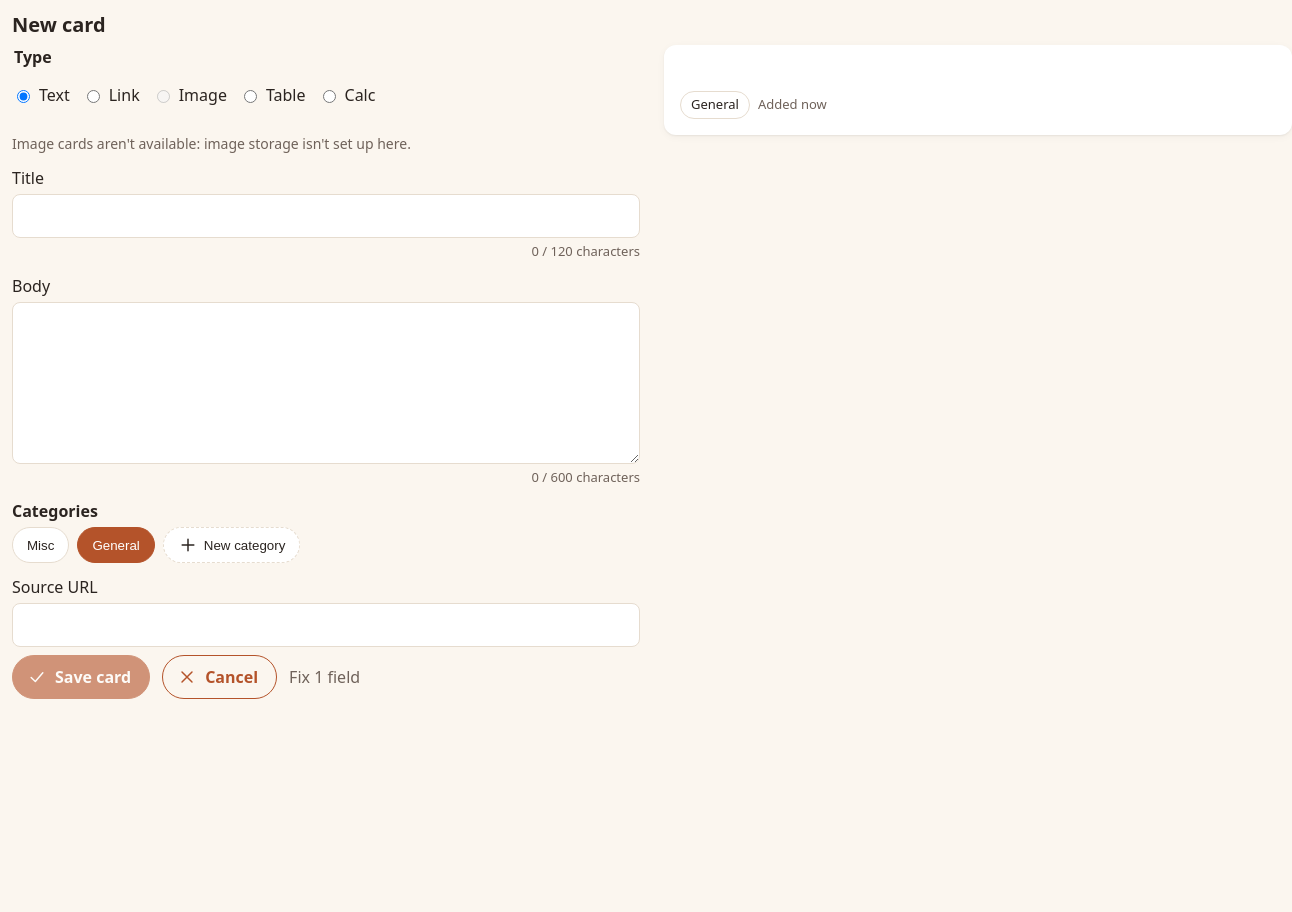
it: CardEditor: create › shows a server 422 on the categories and keeps the draft
This screenshot has width=1292, height=912.
Type "Kept" into the field labelled "Title" at (326,216), box [12,194,640,238]
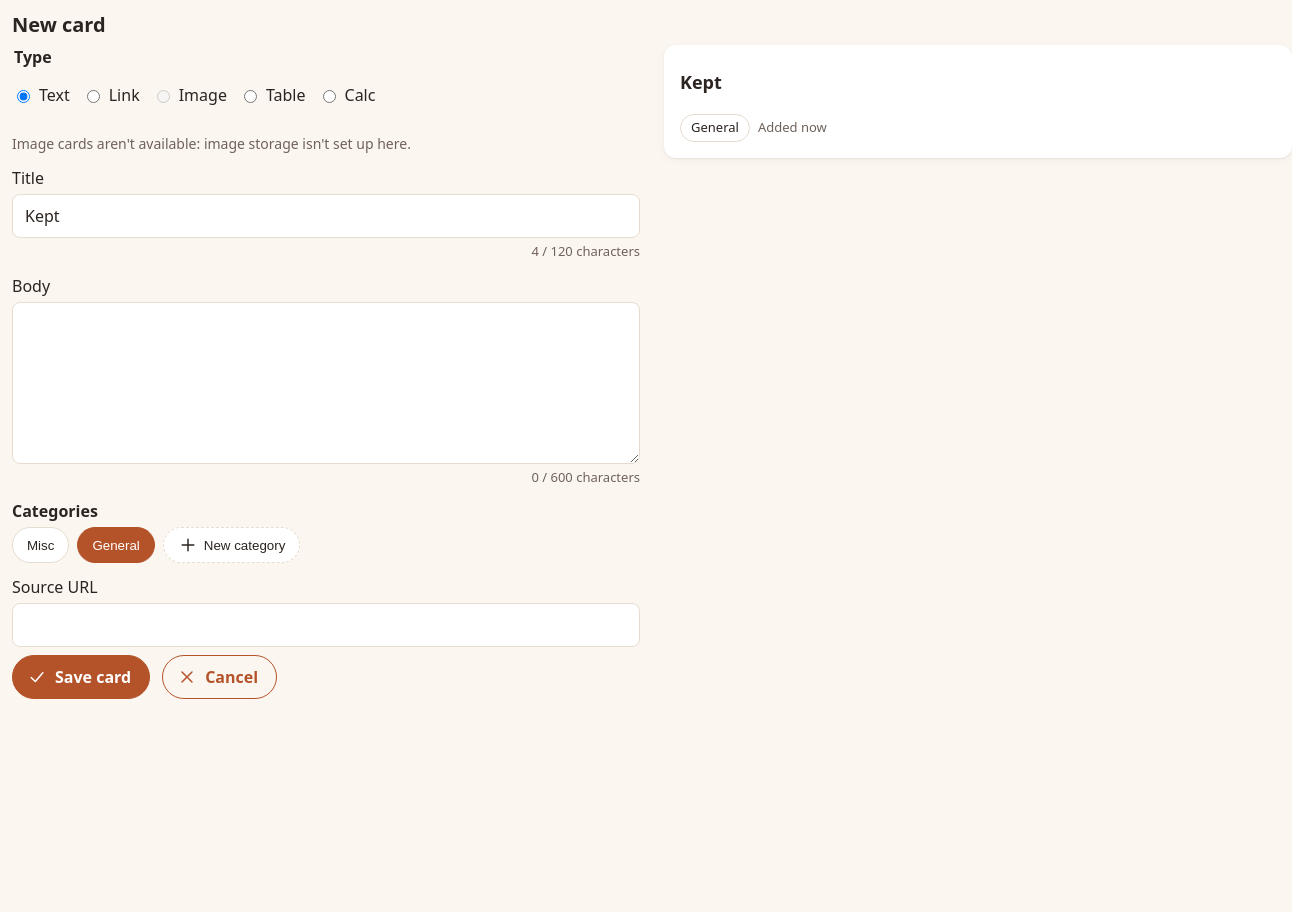
Click the button "Save card" at (81,677), box [12,655,150,699]
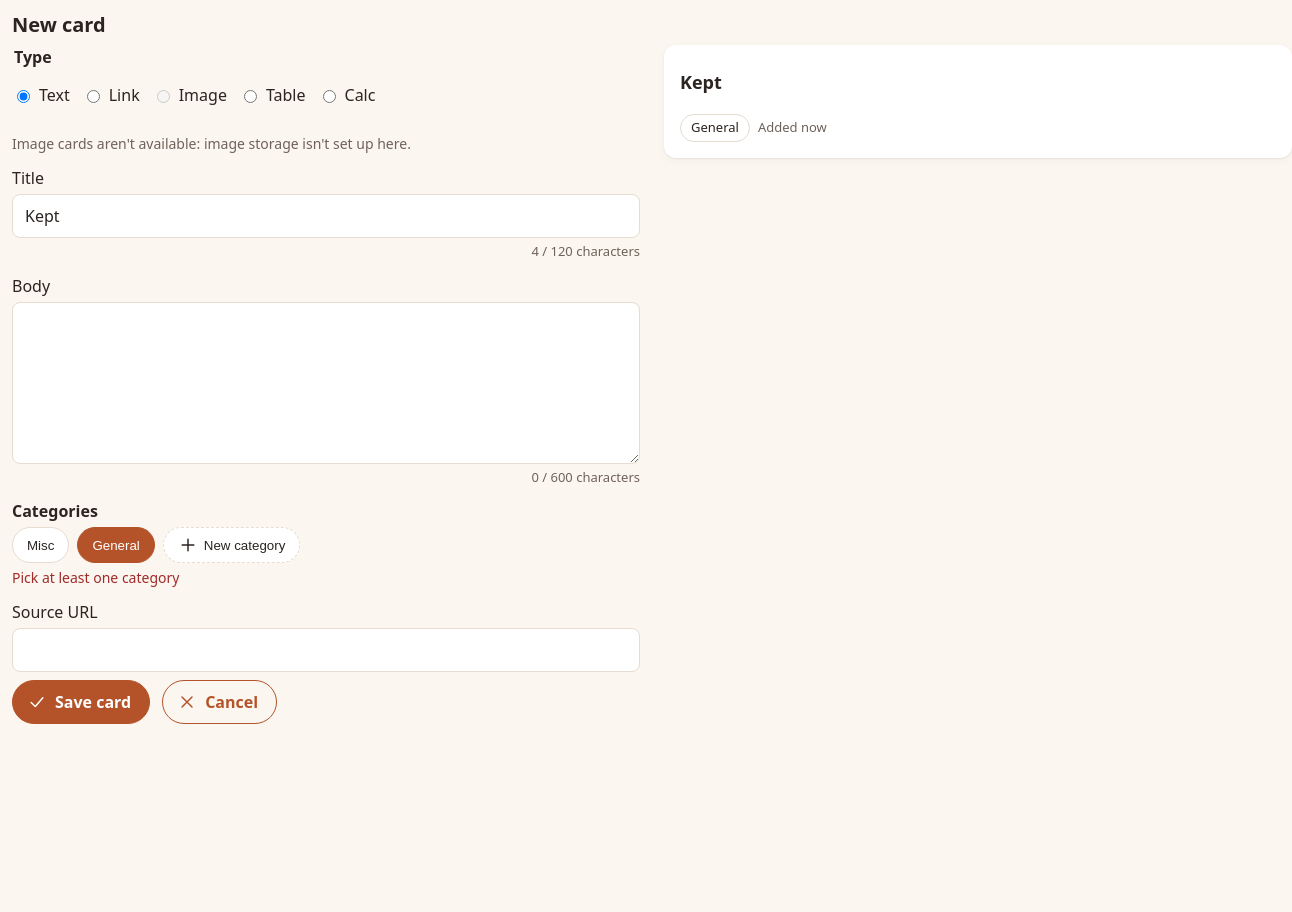
expect the text "Pick at least one category" is shown: met, box [12,568,179,587]
